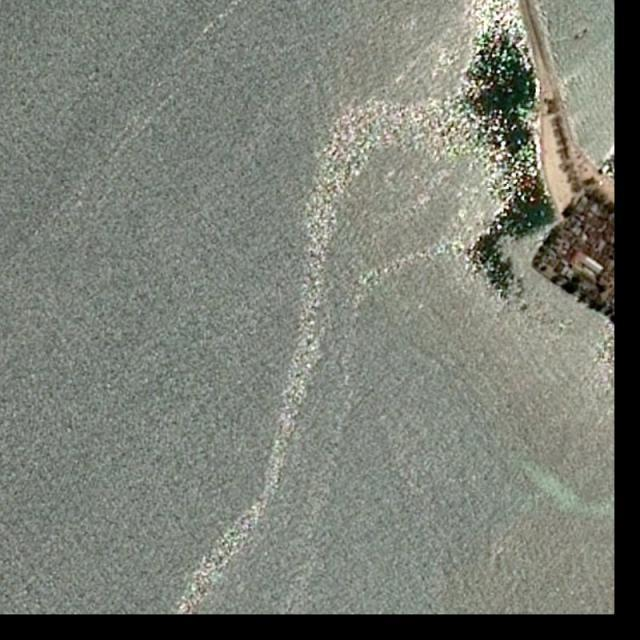ship: (574, 30, 589, 41)
